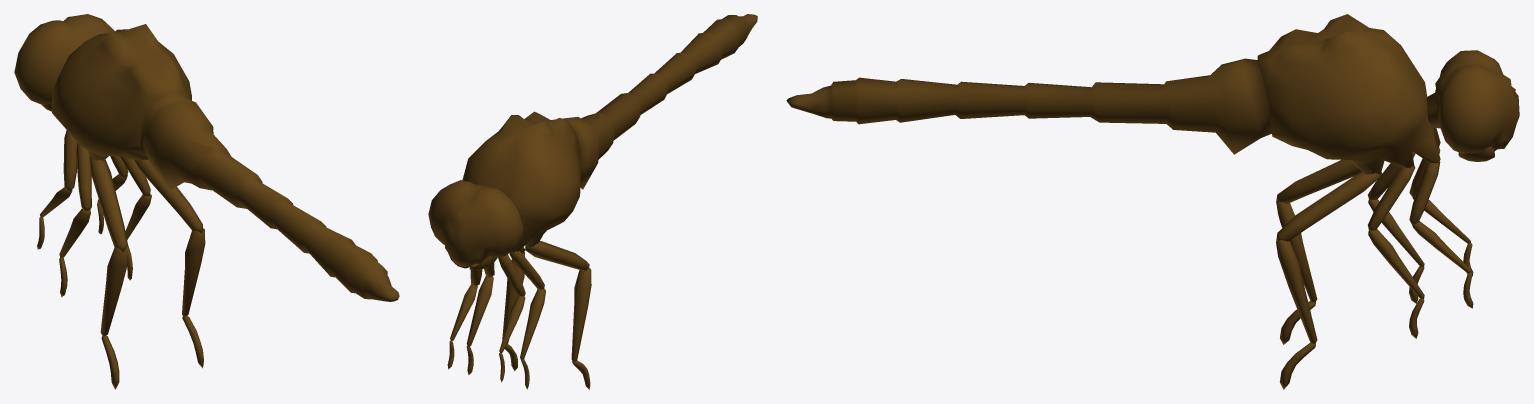
The model's file is Dragonfly_model2.fbx.
3 renders of one model, left to right at view 1: azimuth 30°, elevation 25°; view 2: azimuth 150°, elevation 25°; view 3: azimuth 270°, elevation 25°, orthographic. The views are drawn at different scales.
Parts seen in each view (by area): view 1: Body, Hed, LegL3_1, LegL3_2, LegR3_1, LegR3_2, LegL2_1, LegL1_1, LegL2_2, LegR2_2, LegR2_1, LegL3_3 (+2 smaller); view 2: Body, Hed, LegL3_2, LegL3_1, LegR2_2, LegL2_2, LegR1_2, LegL2_1, LegL1_1, LegL1_2, LegR3_2; view 3: Body, Hed, LegR3_1, LegL3_1, LegR3_2, LegL3_2, LegR2_1, LegR2_2, LegR1_1, LegR1_2, LegL2_2.
Part boxes in pixels (x1=…): Body: x1=52, y1=24, x2=399, y2=301; Hed: x1=14, y1=14, x2=114, y2=105; LegL3_1: x1=90, y1=156, x2=127, y2=252; LegL3_2: x1=100, y1=247, x2=127, y2=335; LegR3_1: x1=134, y1=159, x2=202, y2=232; LegR3_2: x1=182, y1=228, x2=205, y2=316; LegL2_1: x1=76, y1=142, x2=91, y2=211; LegL1_1: x1=63, y1=130, x2=77, y2=191; LegL2_2: x1=59, y1=208, x2=90, y2=257; LegR2_2: x1=125, y1=194, x2=151, y2=239; LegR2_1: x1=120, y1=156, x2=150, y2=196; LegL3_3: x1=101, y1=335, x2=119, y2=389; Body: x1=462, y1=14, x2=757, y2=256; Hed: x1=428, y1=180, x2=523, y2=266; LegL3_2: x1=571, y1=267, x2=591, y2=361; LegL3_1: x1=525, y1=241, x2=589, y2=270; LegR2_2: x1=466, y1=275, x2=493, y2=346; LegL2_2: x1=520, y1=288, x2=545, y2=359; LegR1_2: x1=450, y1=284, x2=477, y2=340; LegL2_1: x1=509, y1=251, x2=544, y2=289; LegL1_1: x1=498, y1=254, x2=525, y2=296; LegL1_2: x1=499, y1=296, x2=525, y2=352; LegR3_2: x1=502, y1=252, x2=524, y2=344; Body: x1=786, y1=14, x2=1440, y2=174; Hed: x1=1426, y1=50, x2=1519, y2=153; LegR3_1: x1=1276, y1=172, x2=1382, y2=241; LegL3_1: x1=1276, y1=160, x2=1361, y2=203; LegR3_2: x1=1276, y1=240, x2=1317, y2=343; LegL3_2: x1=1276, y1=201, x2=1317, y2=302; LegR2_1: x1=1368, y1=166, x2=1415, y2=230; LegR2_2: x1=1368, y1=229, x2=1424, y2=298; LegR1_1: x1=1409, y1=162, x2=1440, y2=225; LegR1_2: x1=1412, y1=221, x2=1470, y2=272; LegL2_2: x1=1368, y1=199, x2=1424, y2=266.
Size of the model in its own units: 0.3962 by 2.02 by 1.05.
